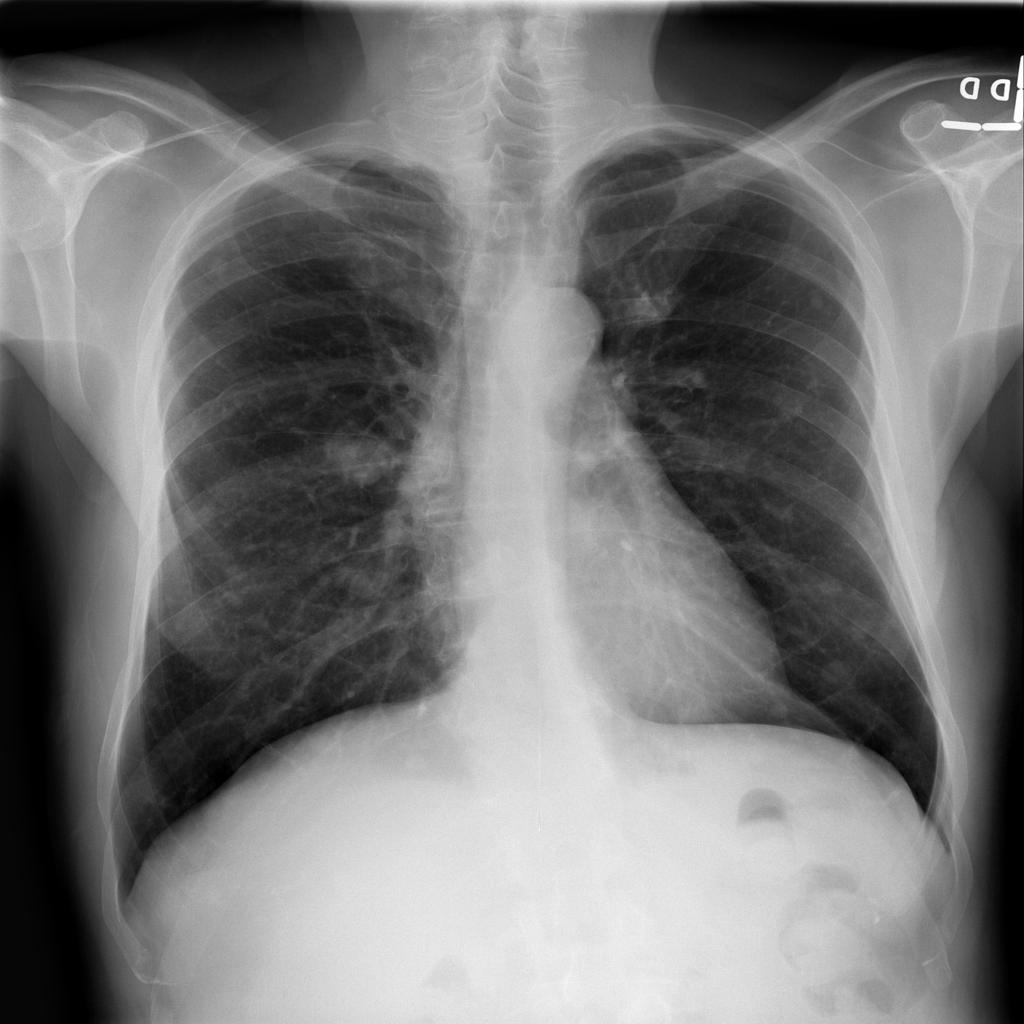nodule: (318, 415, 402, 495), (808, 650, 867, 697), (800, 566, 855, 615), (792, 272, 843, 324), (838, 606, 891, 654), (193, 242, 244, 287)
